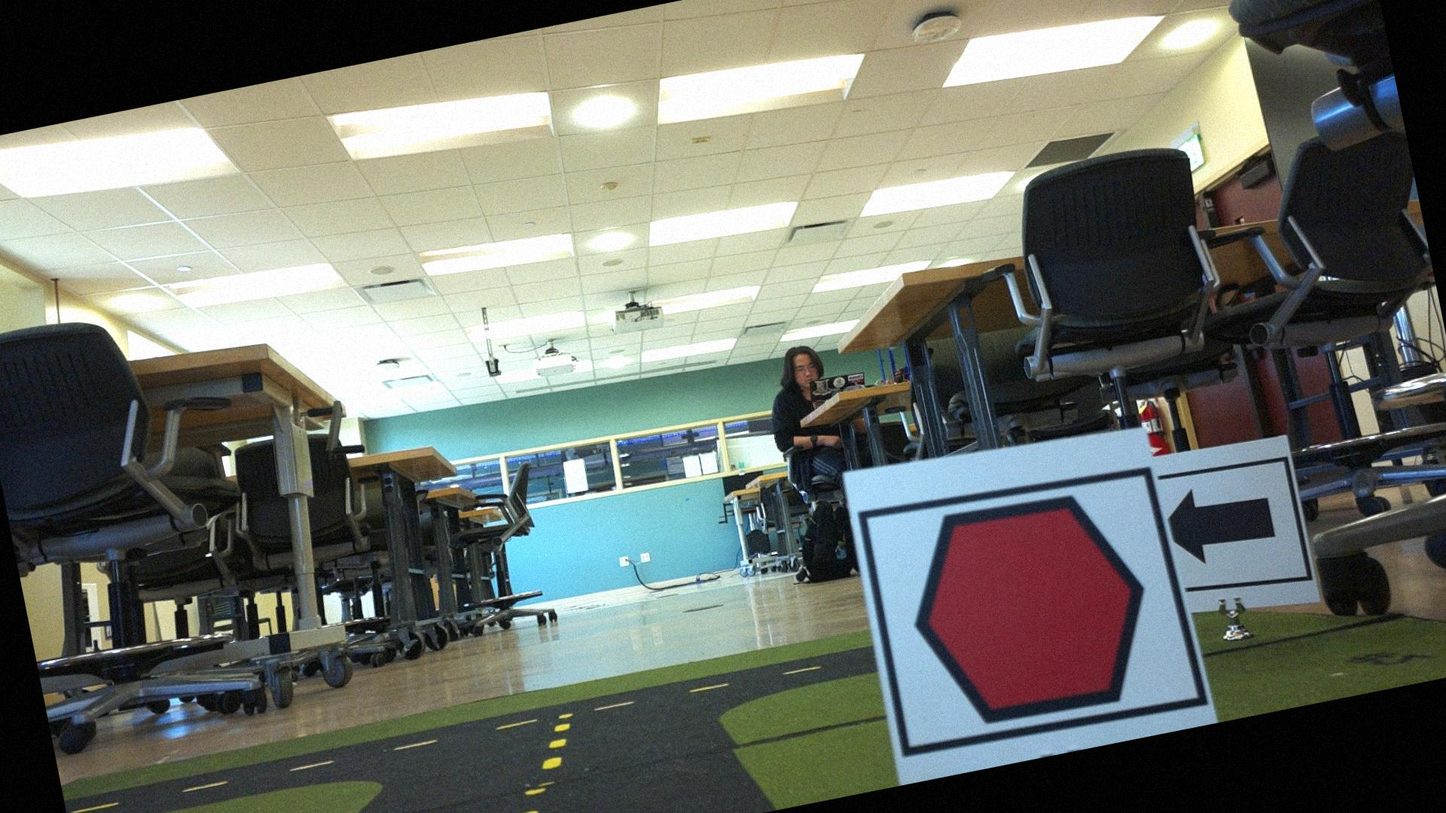stop: (876, 469, 1182, 751)
turnright: (1160, 461, 1304, 584)
yellowline: (529, 717, 577, 774), (481, 803, 547, 812)
